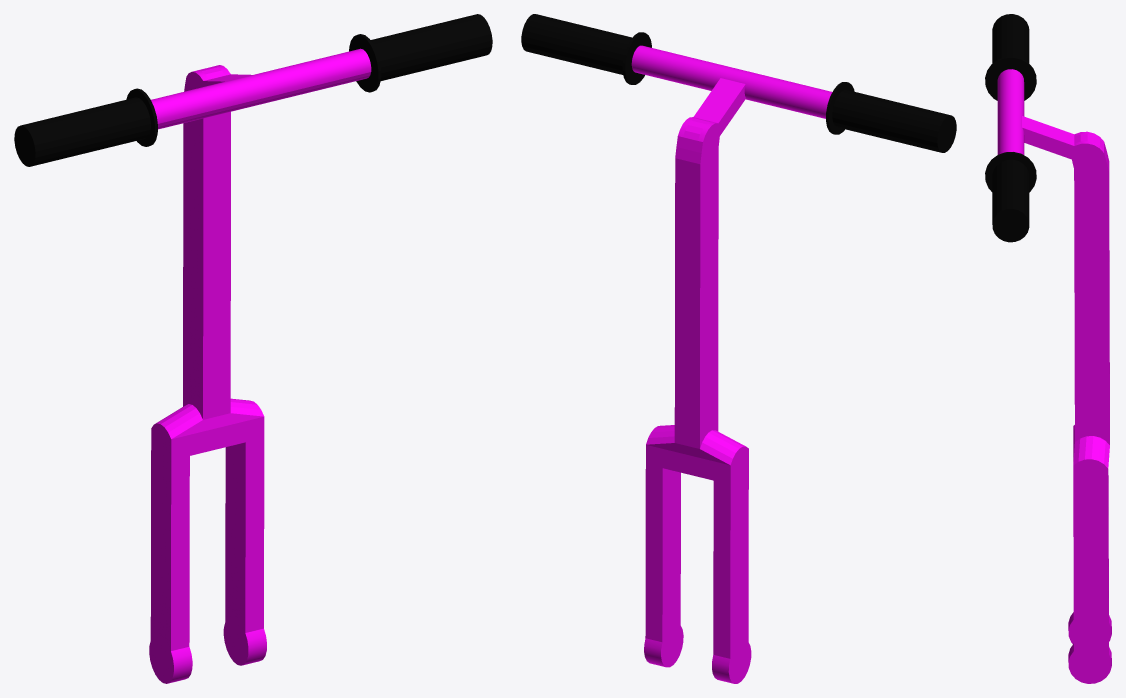
Rendered from guidon_velo.fbx.
3 views of the same model, side by side, from view 1: azimuth 30°, elevation 25°; view 2: azimuth 150°, elevation 25°; view 3: azimuth 270°, elevation 25° (orthographic). The views are drawn at different scales.
Visible parts, largest first — view 1: guidon; view 2: guidon; view 3: guidon.
Boxes of the visible parts, left/top/right/bottom form: guidon: left=14, top=14, right=492, bottom=683; guidon: left=521, top=14, right=956, bottom=683; guidon: left=985, top=14, right=1111, bottom=683.
Size of the model in its own units: 2.45 by 3.29 by 0.6746.
